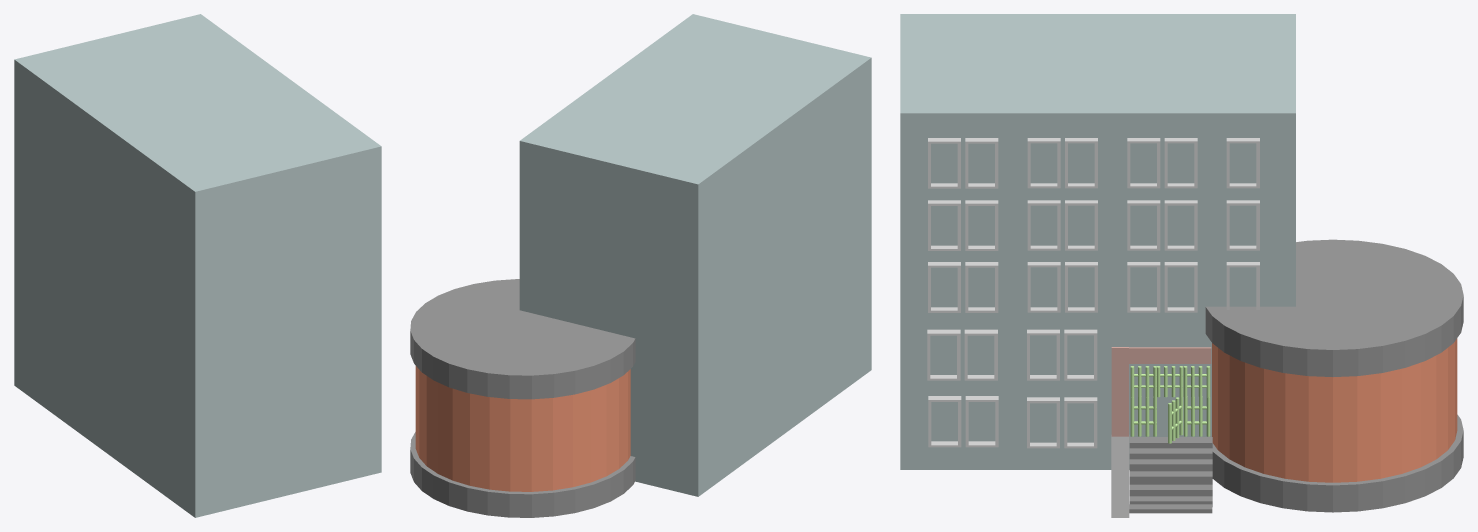
The model's file is 法律系.fbx.
3 views of the same model, side by side, from view 1: azimuth 30°, elevation 25°; view 2: azimuth 150°, elevation 25°; view 3: azimuth 270°, elevation 25° (orthographic). The views are drawn at different scales.
Visible parts, largest first — view 1: 立方體; view 2: 立方體, 圓柱體, 圓柱體.007, 圓柱體.008; view 3: 立方體, 圓柱體, 圓柱體.007, 圓柱體.008, 立方體.007, 立方體.002, 立方體.010, 立方體.003, 立方體.004, 立方體.001, 立方體.005, 立方體.009 (+6 smaller).
Boxes of the visible parts, left/top/right/bottom form: 立方體: left=14, top=14, right=381, bottom=517; 立方體: left=519, top=14, right=871, bottom=496; 圓柱體: left=415, top=366, right=630, bottom=491; 圓柱體.007: left=410, top=279, right=635, bottom=399; 圓柱體.008: left=410, top=432, right=635, bottom=517; 立方體: left=900, top=14, right=1295, bottom=469; 圓柱體: left=1212, top=338, right=1457, bottom=482; 圓柱體.007: left=1205, top=239, right=1463, bottom=376; 圓柱體.008: left=1212, top=414, right=1463, bottom=512; 立方體.007: left=1129, top=437, right=1212, bottom=513; 立方體.002: left=928, top=200, right=1259, bottom=250; 立方體.010: left=928, top=138, right=1259, bottom=188; 立方體.003: left=928, top=262, right=1259, bottom=312; 立方體.004: left=1111, top=347, right=1211, bottom=436; 立方體.001: left=1111, top=435, right=1129, bottom=517; 立方體.005: left=927, top=329, right=997, bottom=380; 立方體.009: left=1027, top=397, right=1097, bottom=448.
Bounding box in the file's own units: 2728 × 3197 × 4526.
